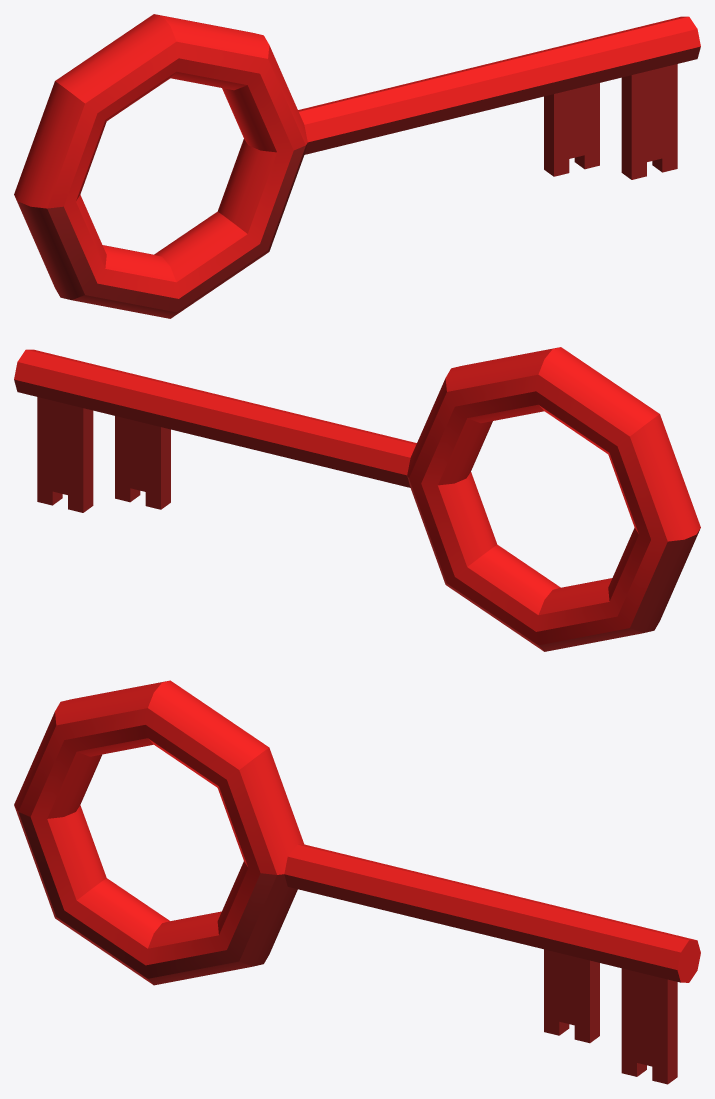
The model's file is Chave_VERMELHO.fbx.
3 views of the same model, one above another, from view 1: azimuth 30°, elevation 25°; view 2: azimuth 150°, elevation 25°; view 3: azimuth 330°, elevation 25° (orthographic).
Visible parts, largest first — view 1: Torus.001; view 2: Torus.001; view 3: Torus.001.
Part boxes in pixels (x1,y1,x2,y2): Torus.001: (14,14,700,318); Torus.001: (14,347,700,651); Torus.001: (14,680,700,1084).
Size of the model in its own units: 362 by 155 by 30.99.
Materials: 1 (1 with a texture image).
